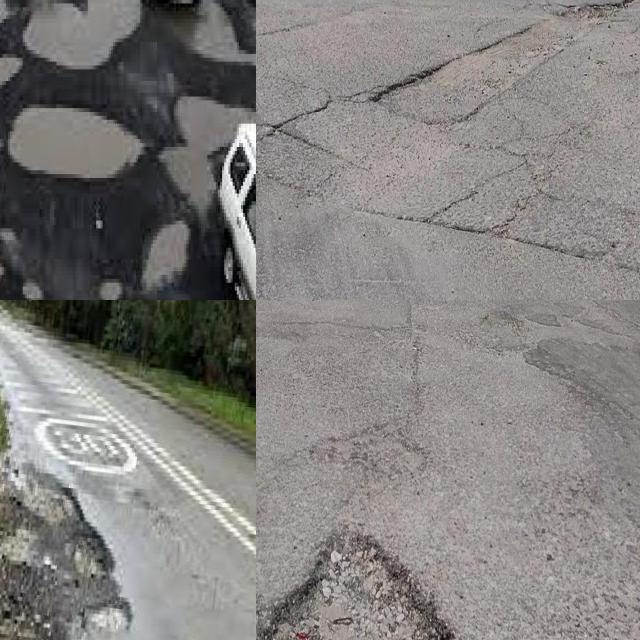Pothole: (0, 462, 139, 640), (256, 529, 459, 640), (367, 48, 527, 127), (160, 96, 256, 218), (8, 104, 155, 182), (23, 0, 142, 69), (192, 0, 256, 64), (142, 221, 190, 290), (90, 606, 129, 631), (0, 55, 22, 88), (100, 280, 122, 300), (22, 282, 43, 300), (0, 228, 17, 242), (96, 219, 103, 229)
